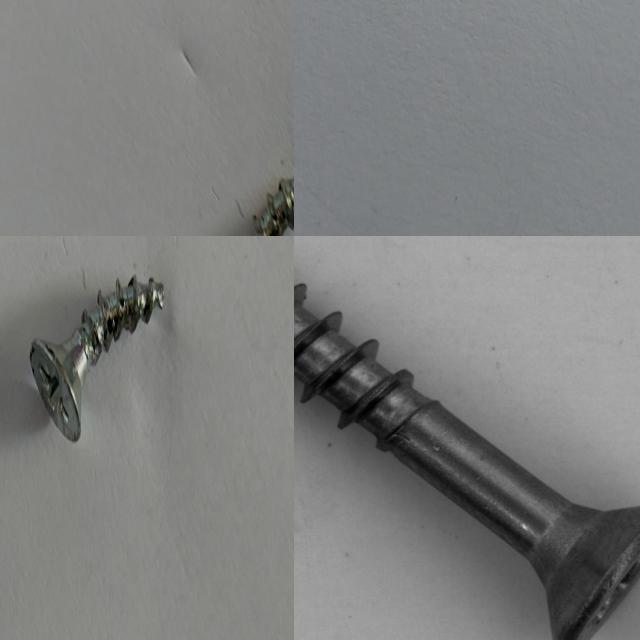Screw: (294, 236, 640, 640), (30, 274, 165, 440), (253, 175, 294, 236)
